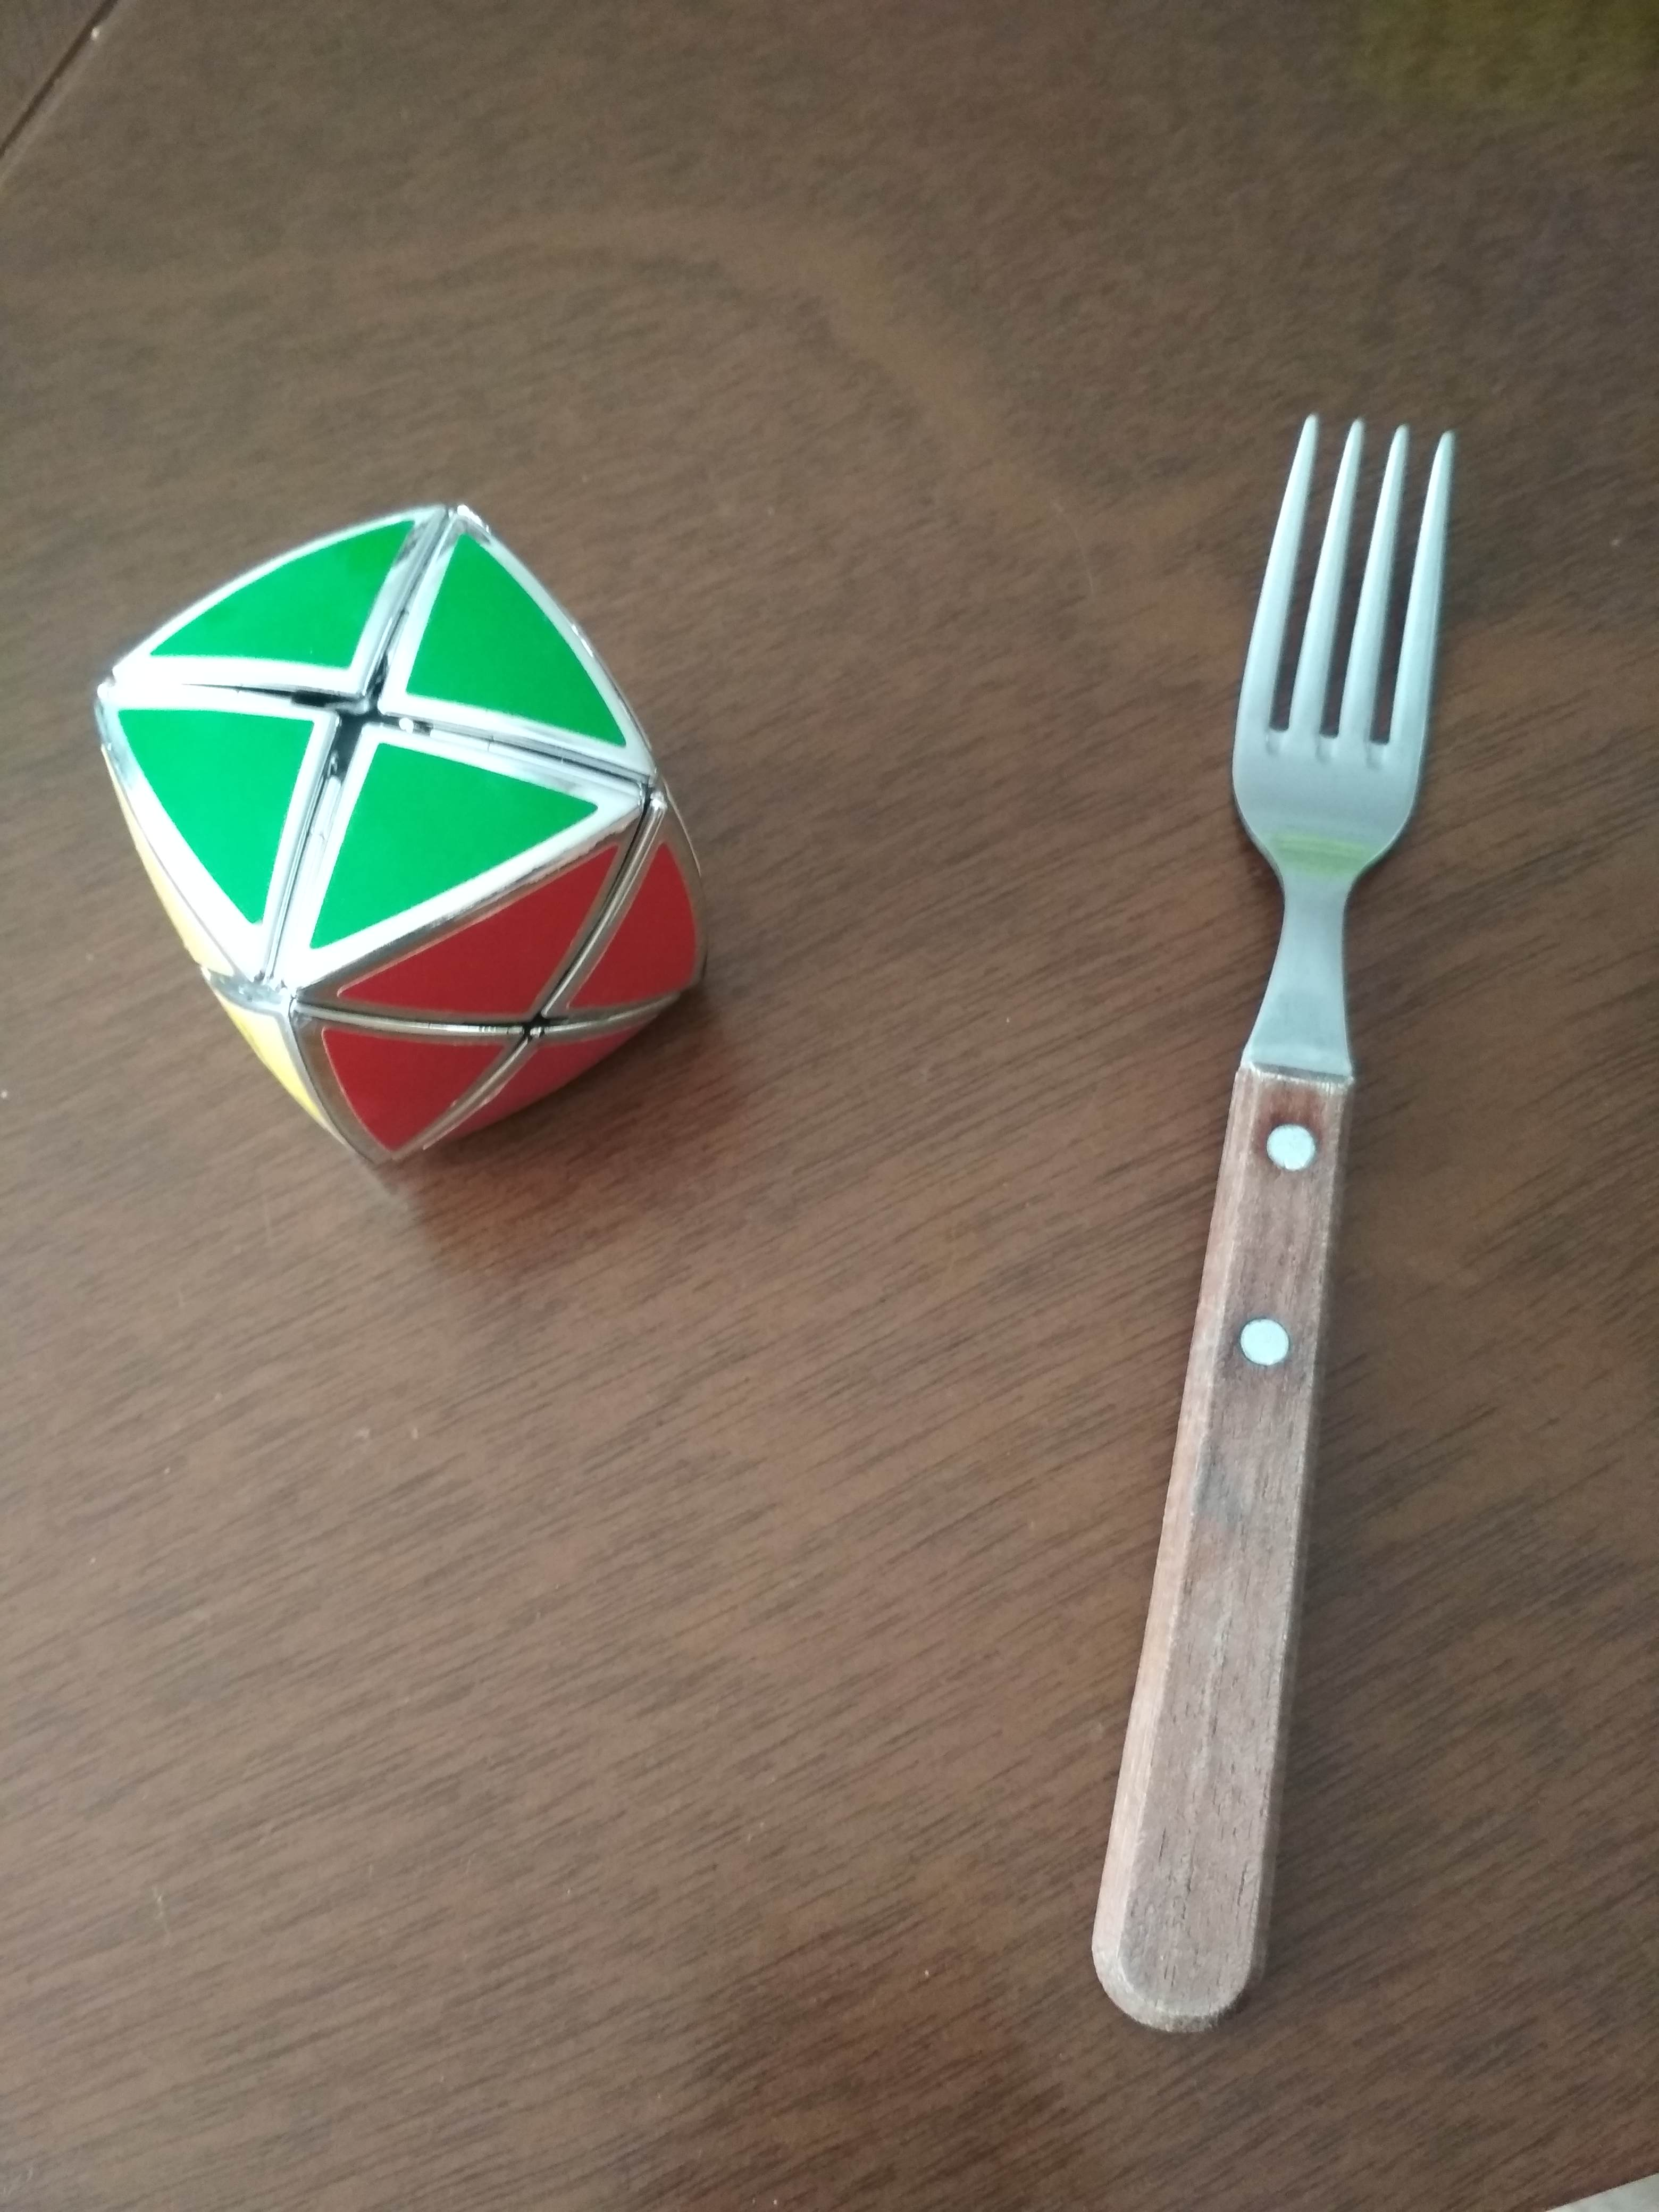fork: (1051, 378, 1490, 2057)
rubik_cube: (64, 469, 753, 1207)
